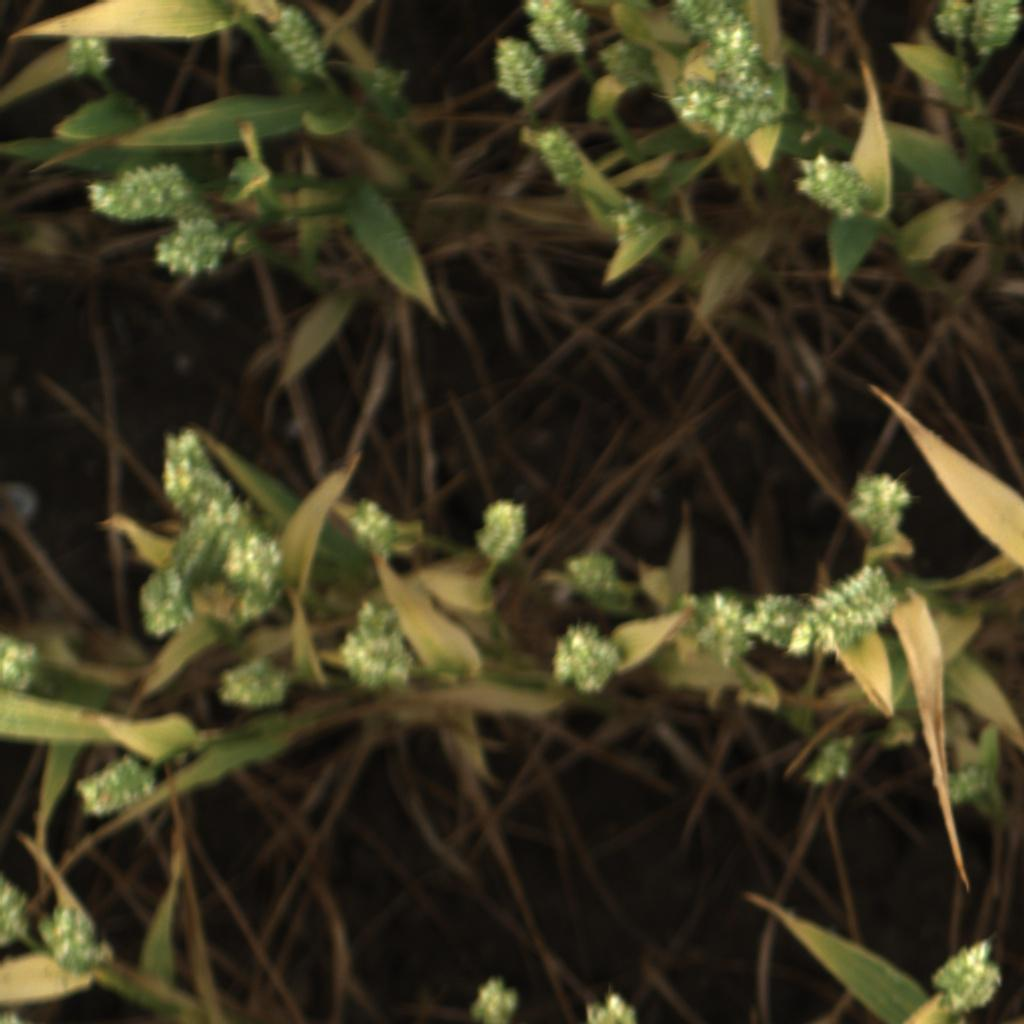0-0: (806, 565, 900, 659), (670, 72, 784, 146), (85, 160, 204, 225), (157, 425, 235, 516), (171, 492, 252, 578), (545, 620, 629, 697), (930, 934, 1006, 1018), (35, 901, 119, 975), (790, 150, 875, 221), (70, 755, 156, 821), (841, 471, 921, 541), (340, 628, 420, 692), (747, 589, 819, 659), (150, 219, 230, 280), (519, 0, 596, 62), (266, 6, 330, 80), (343, 494, 407, 562), (486, 37, 549, 104), (531, 125, 588, 198), (137, 566, 192, 641), (222, 530, 288, 592), (690, 585, 745, 658), (798, 734, 863, 794), (471, 499, 529, 566), (218, 660, 290, 713), (669, 0, 750, 47), (565, 550, 630, 603), (600, 37, 662, 90), (706, 21, 764, 76), (0, 870, 39, 951), (0, 632, 46, 698), (968, 1, 1021, 55), (353, 590, 404, 646), (467, 973, 522, 1024), (944, 759, 997, 811), (63, 31, 113, 84), (578, 987, 645, 1023), (713, 67, 778, 103), (231, 583, 285, 625), (609, 200, 652, 248), (927, 0, 972, 45), (366, 64, 411, 103), (176, 204, 218, 236)
